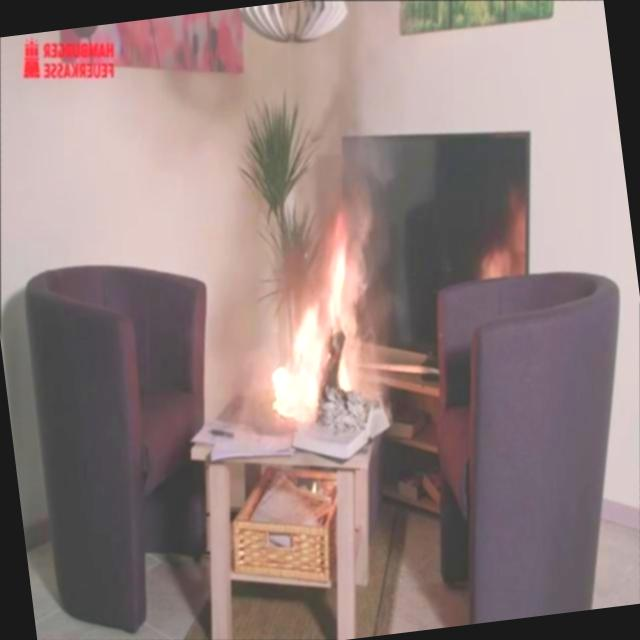fire: (238, 178, 408, 448)
